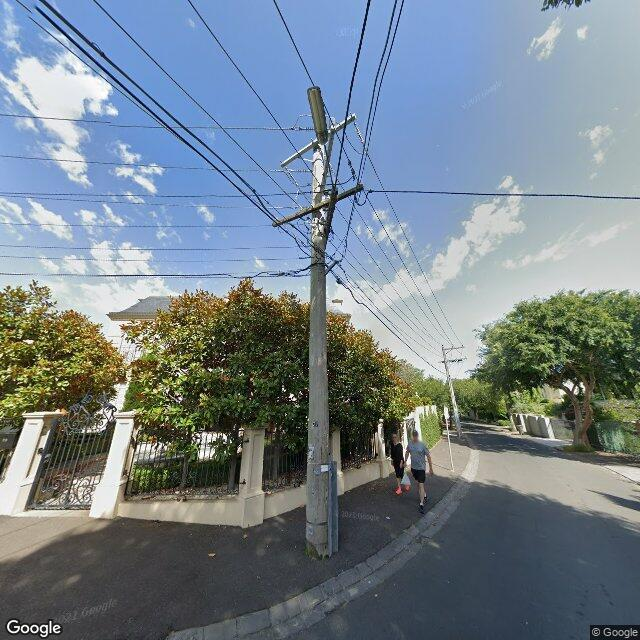HV-transmission: (271, 116, 365, 185)
crossarm: (282, 113, 356, 168), (272, 184, 364, 227), (325, 187, 338, 245), (324, 125, 334, 176), (444, 346, 464, 350), (442, 359, 462, 363)
streetlight: (307, 86, 335, 189)
timber-pole: (306, 141, 325, 559), (442, 347, 462, 438)
